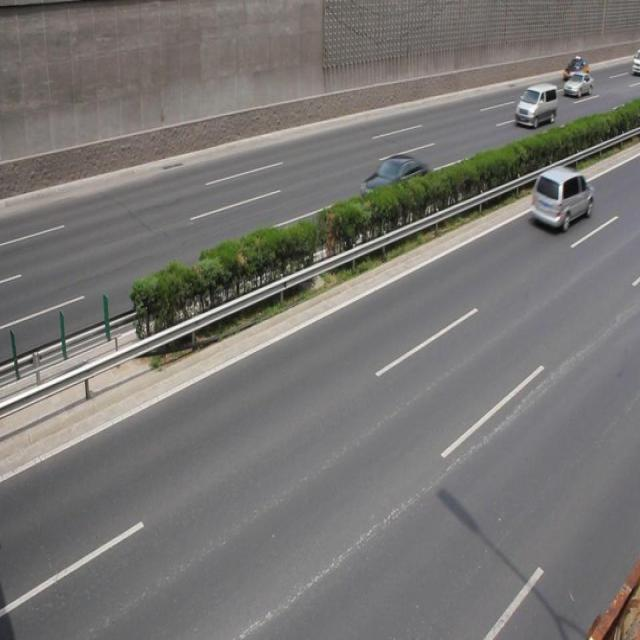car: (359, 157, 434, 218), (527, 167, 594, 232), (562, 70, 592, 97), (562, 56, 589, 82)
truck: (514, 84, 556, 128)
